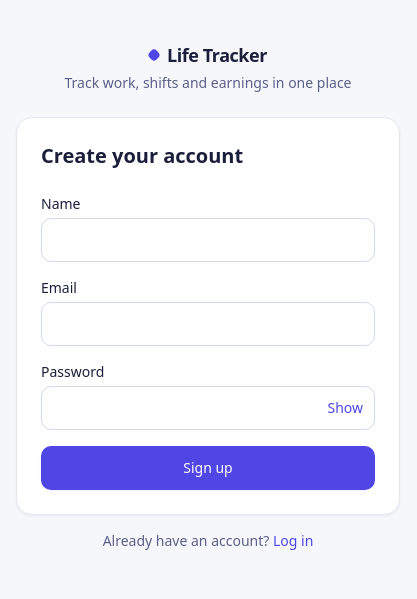
Test: SignupPage › shows the server's message and does not log in when signup is rejected
Step 1. Type "Md Moinuddin" into the field labelled "Name" → (208, 240), box [41,218,375,262]
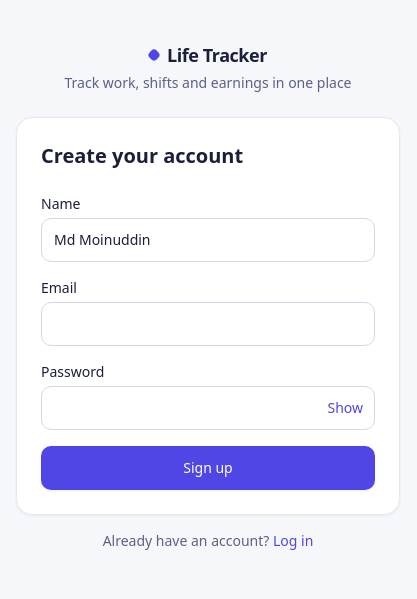
Step 2. Type "md@example.com" into the field labelled "Email" → (208, 324), box [41,302,375,346]
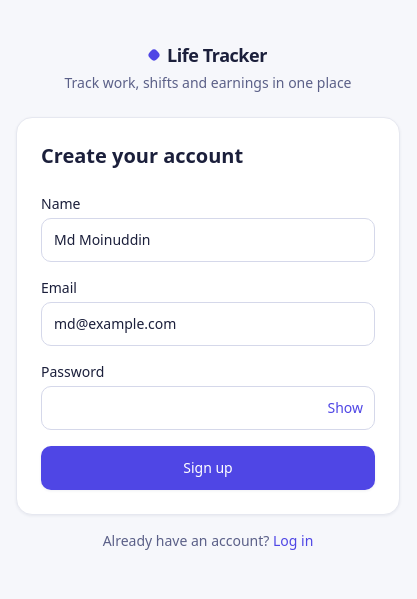
Step 3. Type "Secret123" into the password field labelled "Password" → (208, 408), box [41,386,375,430]
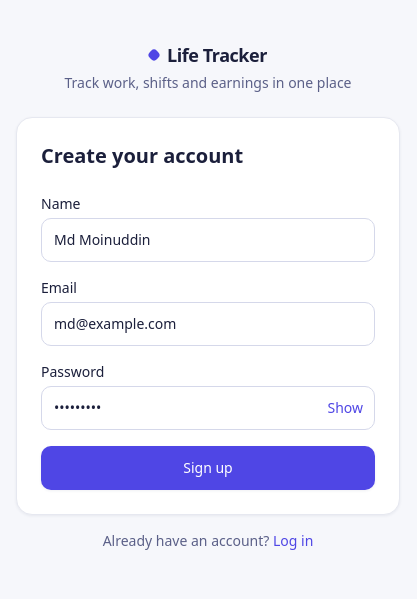
Step 4. Click the button "Sign up" → (208, 468), box [41,446,375,490]
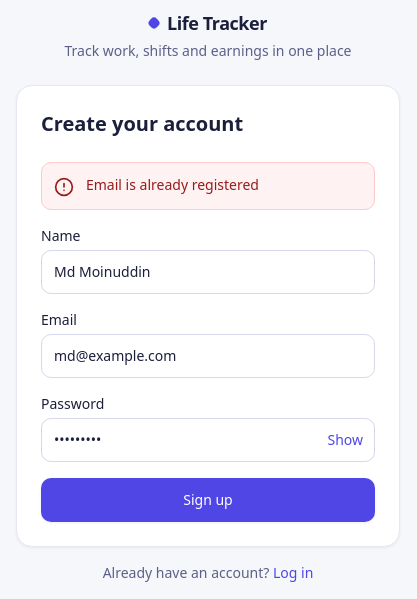
expect the text "Email is already registered" is shown: met, box [41,162,375,210]
